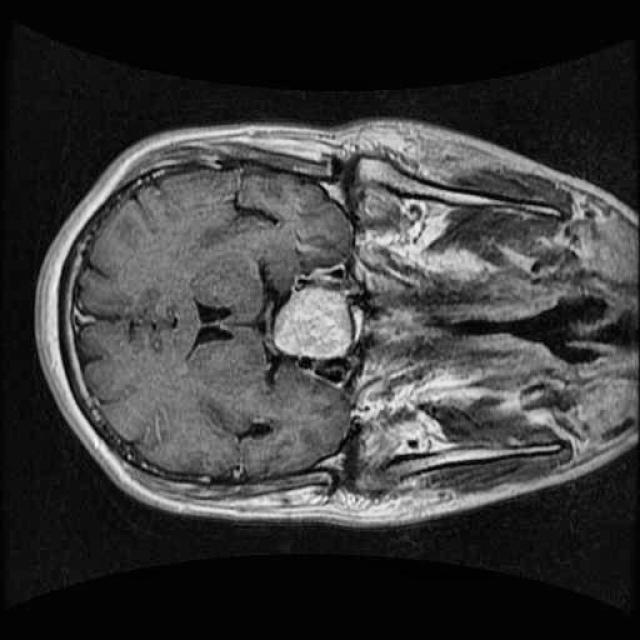Tumor: (264, 276, 372, 369)
